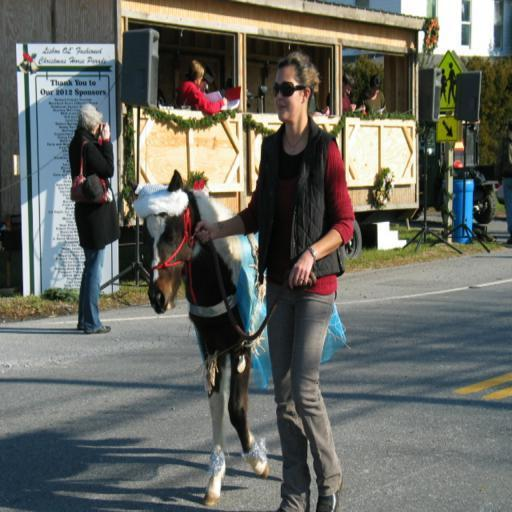horse: (146, 170, 269, 506)
